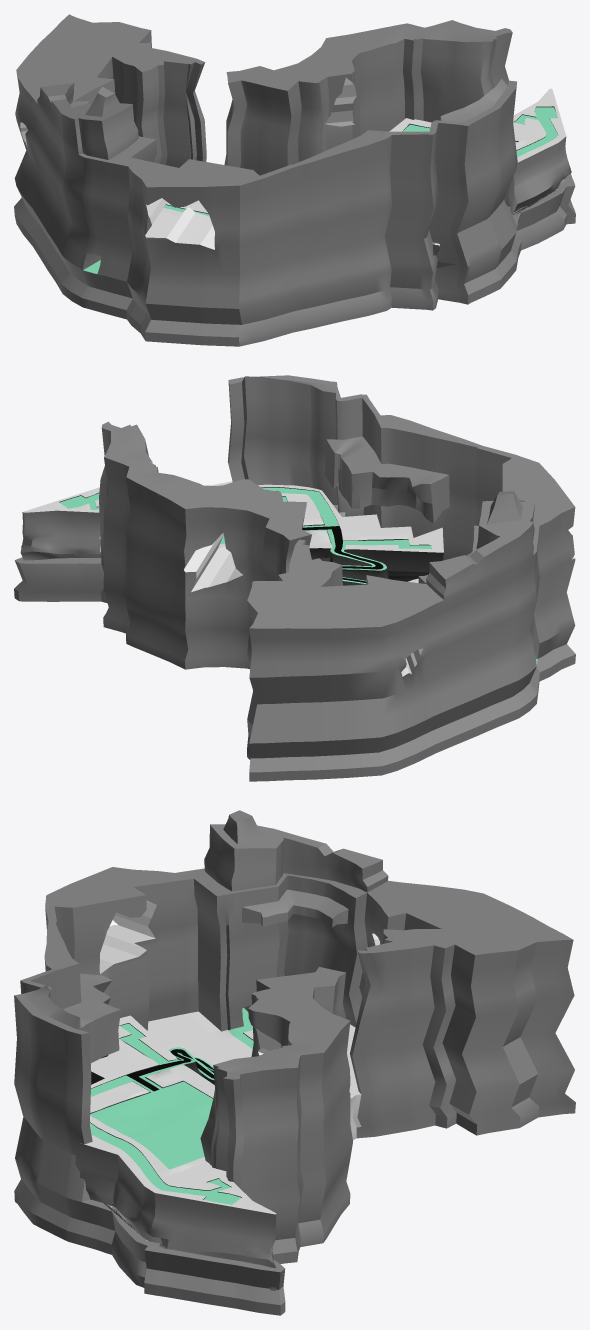
File: MonestaryIsland 1.fbx
3 views of the same model, one above another, from view 1: azimuth 30°, elevation 25°; view 2: azimuth 150°, elevation 25°; view 3: azimuth 270°, elevation 25° (orthographic). The views are drawn at different scales.
Parts seen in each view (by area): view 1: Monestary; view 2: Monestary; view 3: Monestary.
Part boxes in pixels (x1,y1,x2,y2): Monestary: (14, 14, 575, 346); Monestary: (14, 375, 575, 781); Monestary: (14, 810, 575, 1315).
Bounding box in the file's own units: 91730 × 36540 × 77722.
